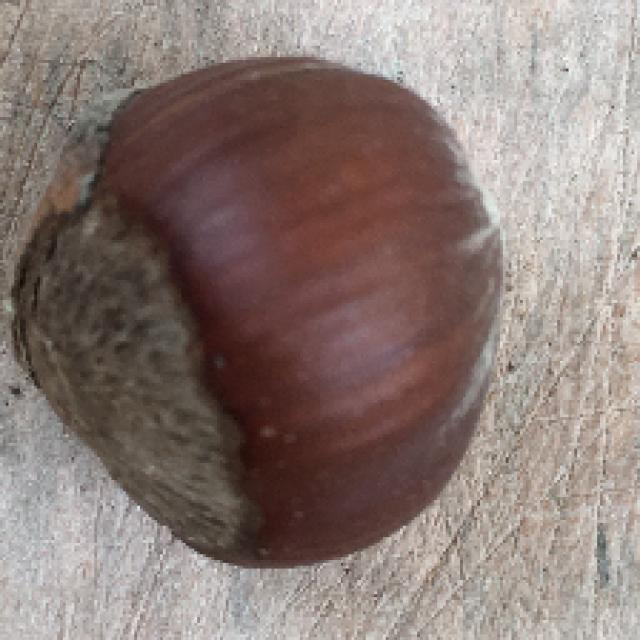damagedHazelnut: (6, 54, 507, 568)
